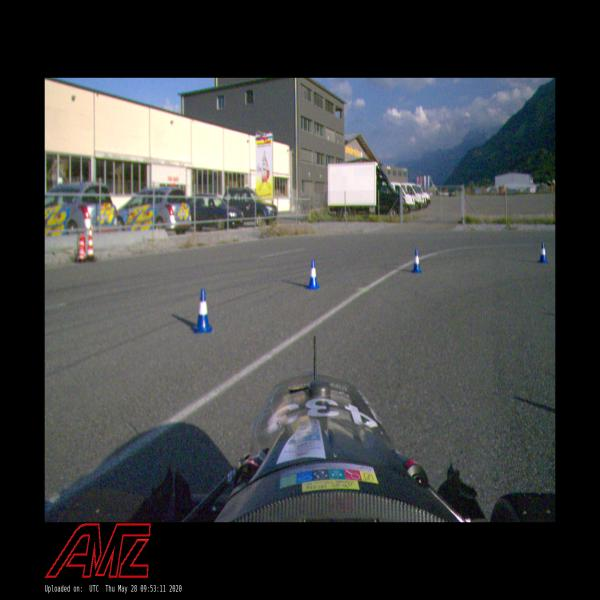blue_cone: (194, 289, 212, 333), (307, 259, 319, 289), (412, 249, 421, 273), (538, 243, 548, 263)
